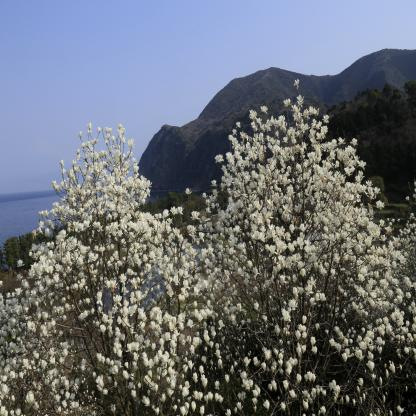Mokuren: (197, 75, 400, 416), (0, 119, 196, 416), (400, 168, 416, 416)
